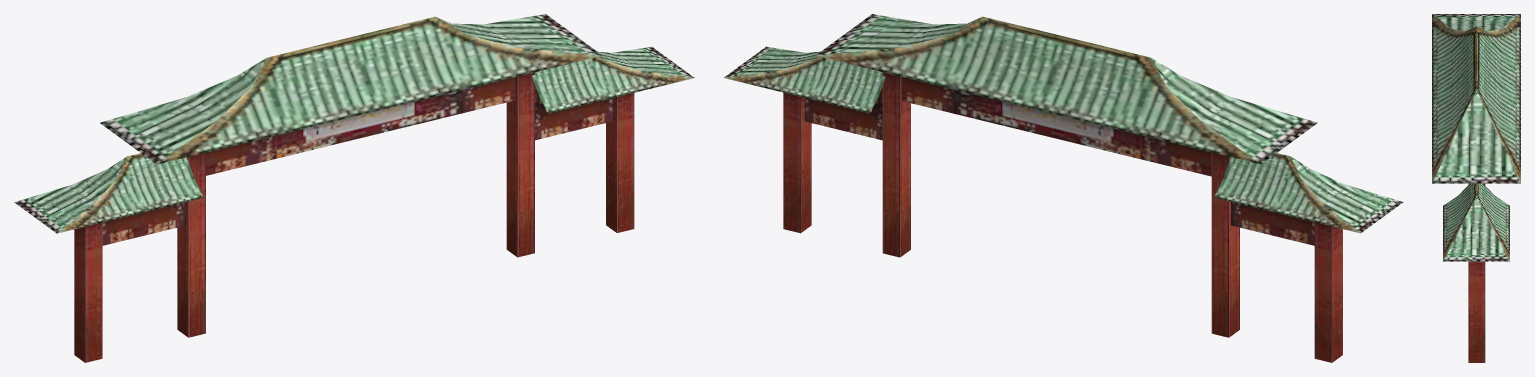
Rendered from USA - Prop - Ancient Wooden Gate 02 - PAAnWdGte02.glb.
3 renders of one model, left to right at view 1: azimuth 30°, elevation 25°; view 2: azimuth 150°, elevation 25°; view 3: azimuth 270°, elevation 25°, orthographic. The views are drawn at different scales.
Parts seen in each view (by area): view 1: PAANWDGTE02; view 2: PAANWDGTE02; view 3: PAANWDGTE02.
Part boxes in pixels (<box>): PAANWDGTE02: <box>14,14,694,362</box>; PAANWDGTE02: <box>724,14,1403,362</box>; PAANWDGTE02: <box>1432,14,1520,362</box>.
Bounding box in the file's own units: 105 × 40.14 × 16.22.
Materials: 1 (1 with a texture image).
